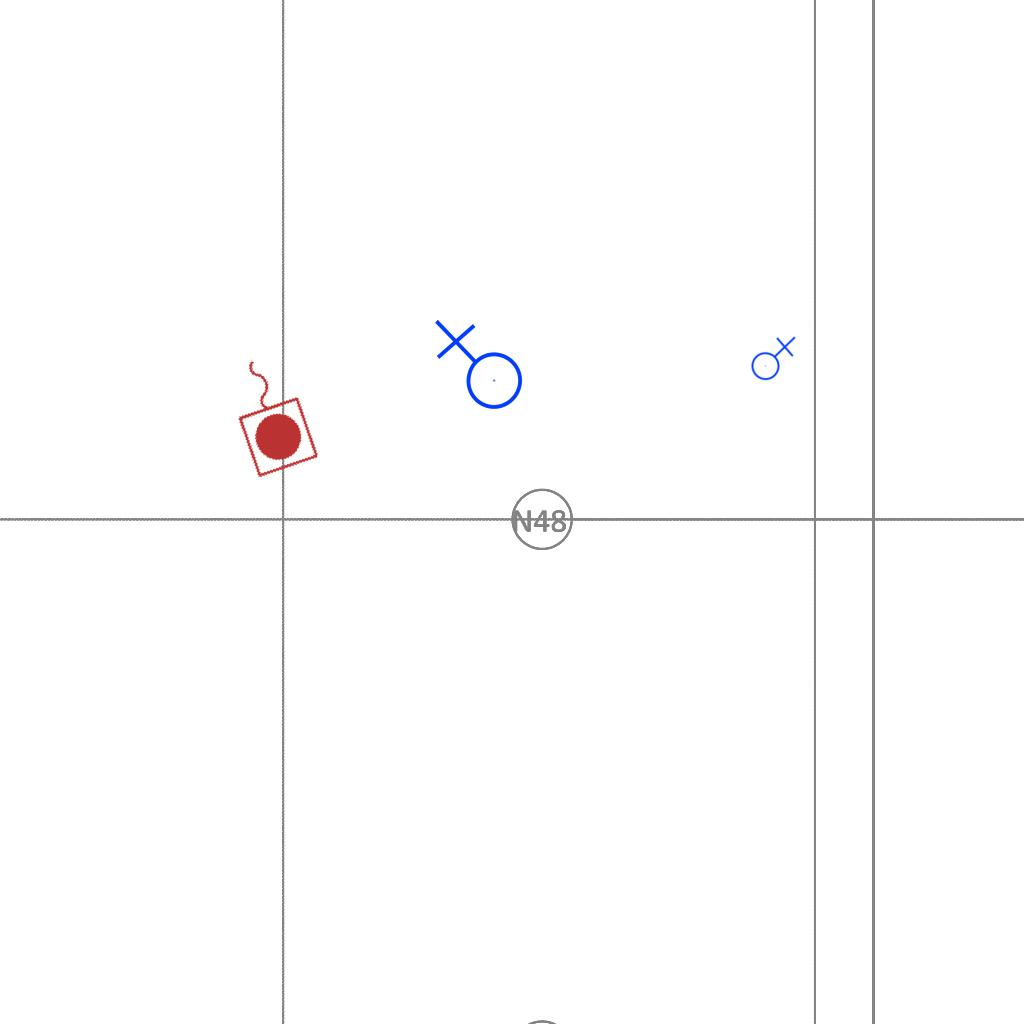Elektroanschluss_allgemein_230V_Geraeteanschlussdose_230V: (430, 319, 524, 418), (747, 334, 796, 381)
Zugtaster: (217, 343, 325, 483)
